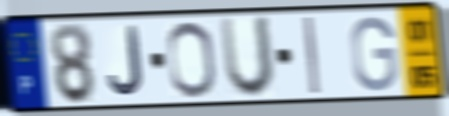8: (48, 19, 98, 107)
G: (348, 14, 400, 94)
I: (301, 14, 322, 97)
J: (106, 23, 147, 99)
O: (164, 19, 219, 100)
U: (218, 14, 277, 101)
